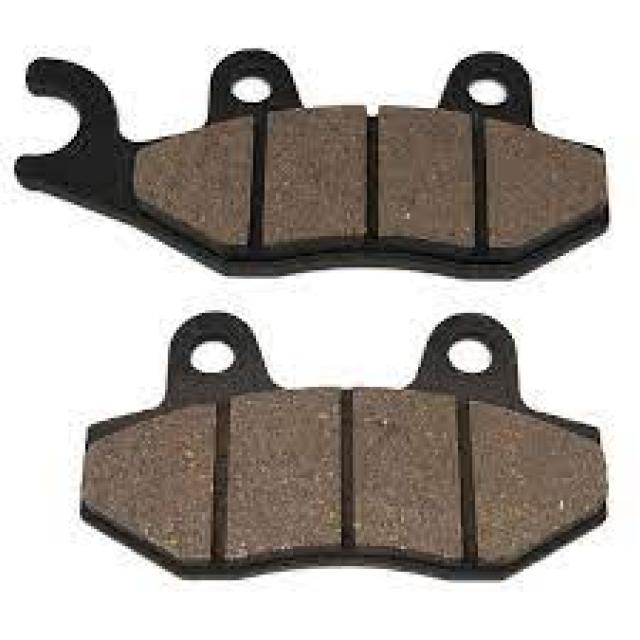brake_pad: (46, 297, 616, 589), (4, 46, 616, 286)
